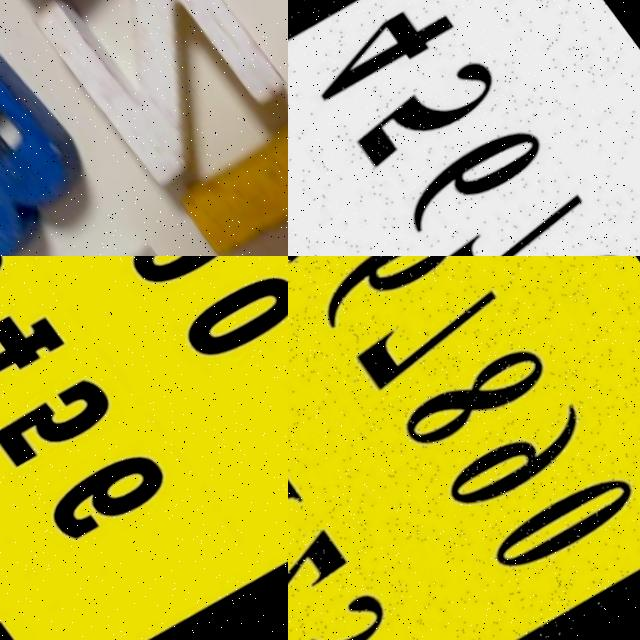0: (450, 406, 640, 620), (161, 256, 288, 393)
1: (288, 424, 336, 610)
2: (288, 483, 377, 640)
3: (288, 543, 422, 640)
4: (288, 0, 473, 137), (0, 257, 86, 430)
5: (325, 11, 521, 200), (0, 333, 140, 496)
6: (367, 66, 580, 256), (20, 402, 204, 581), (288, 256, 494, 366)
7: (324, 256, 540, 428), (410, 124, 626, 256)
8: (368, 296, 571, 491), (454, 200, 640, 256)
9: (410, 352, 616, 551), (106, 256, 279, 316)
B: (0, 1, 116, 256)
L: (177, 90, 288, 256)
Z: (9, 0, 288, 202)
